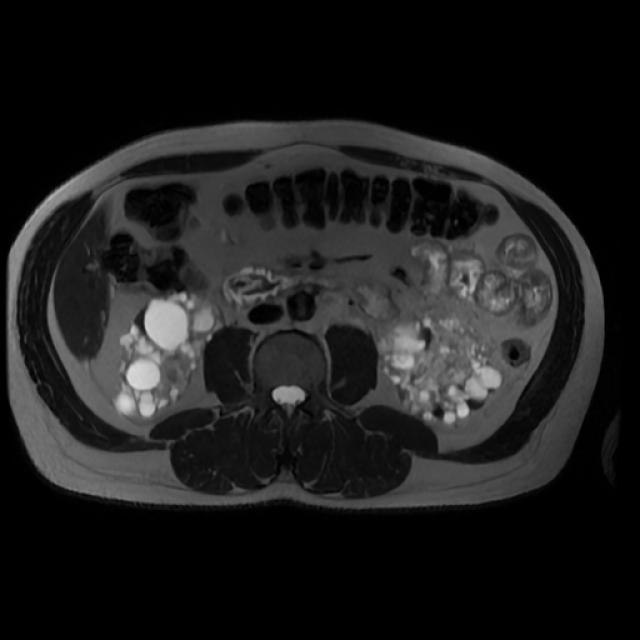sag: (112, 292, 225, 423)
sol: (378, 313, 505, 423)
